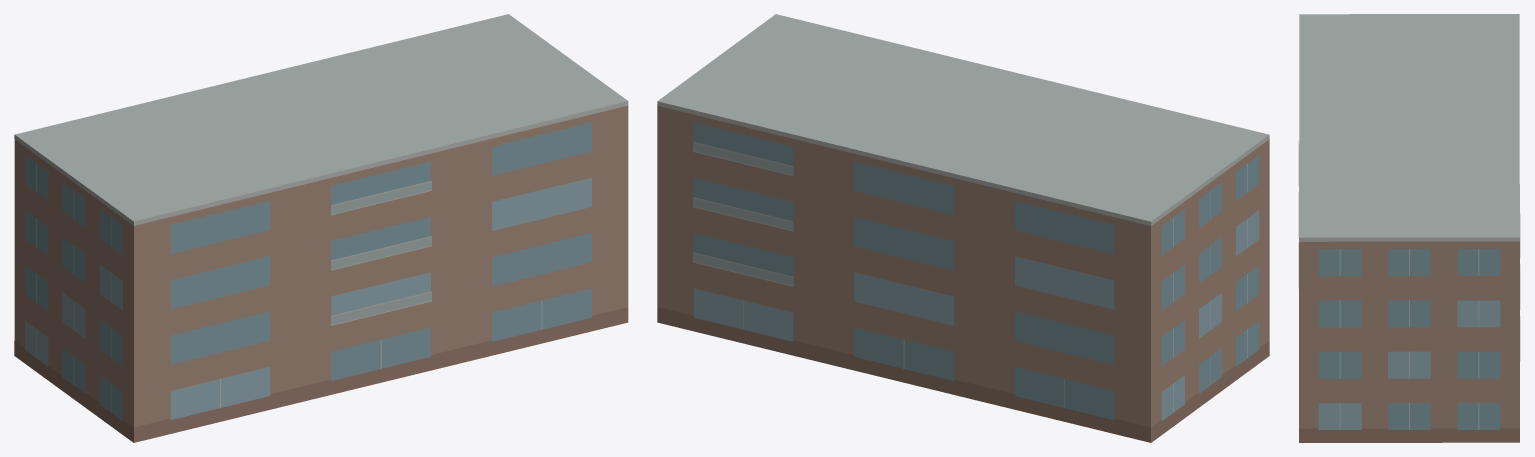
Rendered from survey-upis-32771292.glb.
The picture shows the model from 3 angles, left to right: view 1: azimuth 30°, elevation 25°; view 2: azimuth 150°, elevation 25°; view 3: azimuth 270°, elevation 25°; orthographic projection. The views are drawn at different scales.
Visible parts, largest first — view 1: survey-upis-32771292.tmp; view 2: survey-upis-32771292.tmp; view 3: survey-upis-32771292.tmp.
Part boxes in pixels (x1,y1,x2,y2): survey-upis-32771292.tmp: (14, 14, 628, 442); survey-upis-32771292.tmp: (657, 14, 1269, 442); survey-upis-32771292.tmp: (1298, 14, 1520, 442).
Bounding box in the file's own units: 28.54 × 12.2 × 11.97.
